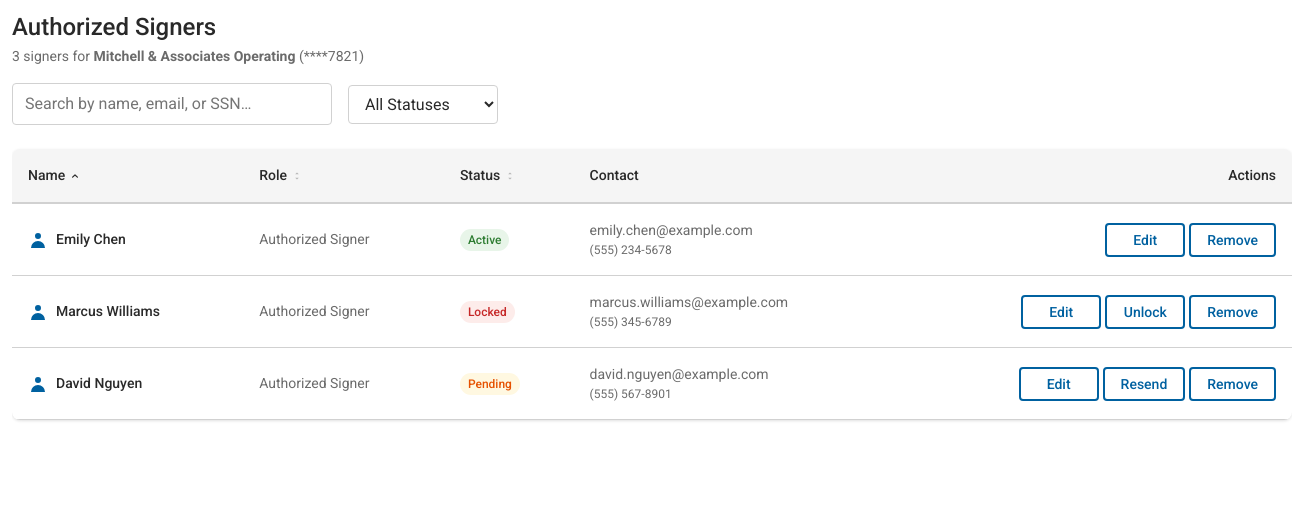
Test: SignerList › action messages › shows success message after successful resend
Click the button with aria-label "resend invitation to david nguyen" at (1144, 384), box [1103,366,1185,400]
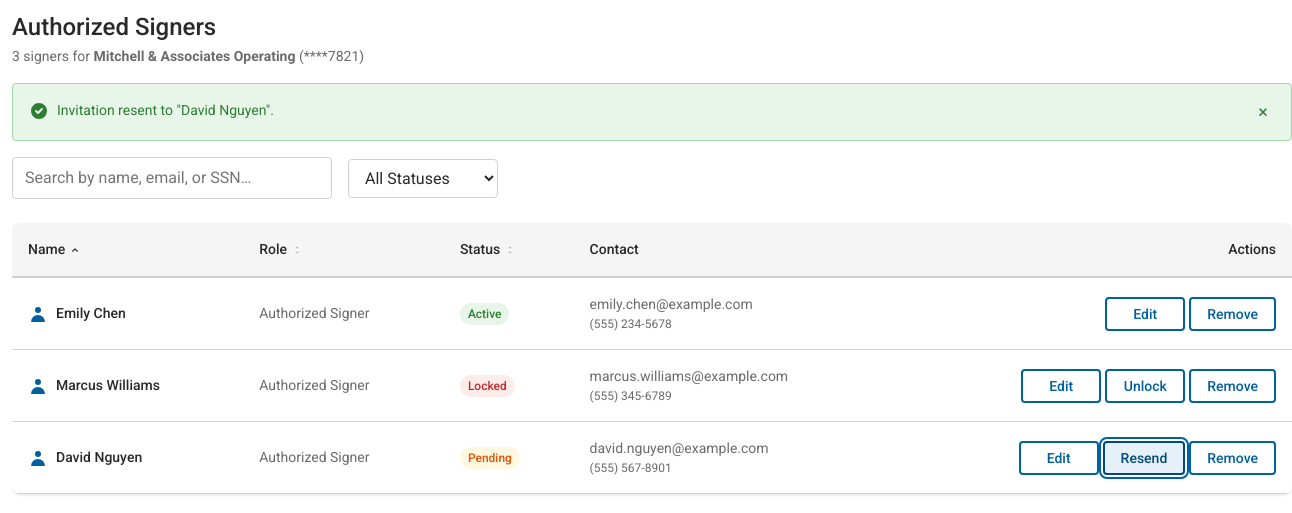
Expected: the text "Invitation resent to \"David Nguyen\"." is shown, [57,102,274,118]
